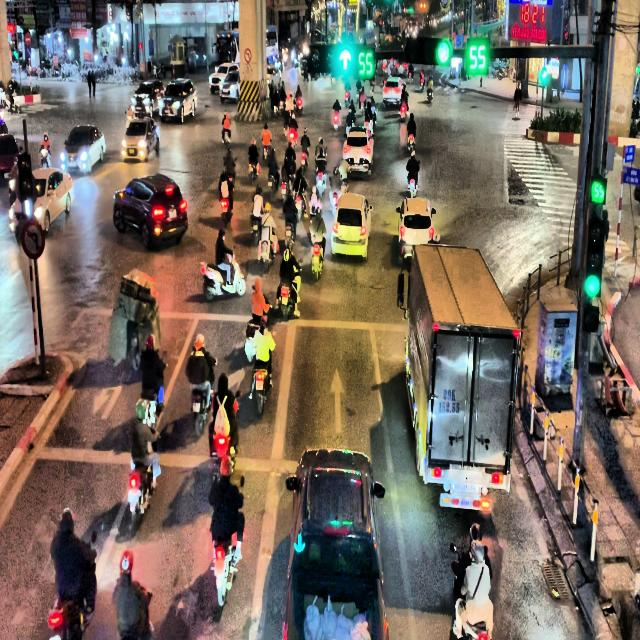lisence_plate: (439, 490, 492, 512), (437, 382, 461, 427), (168, 208, 178, 220), (346, 229, 354, 239), (354, 158, 361, 165)
